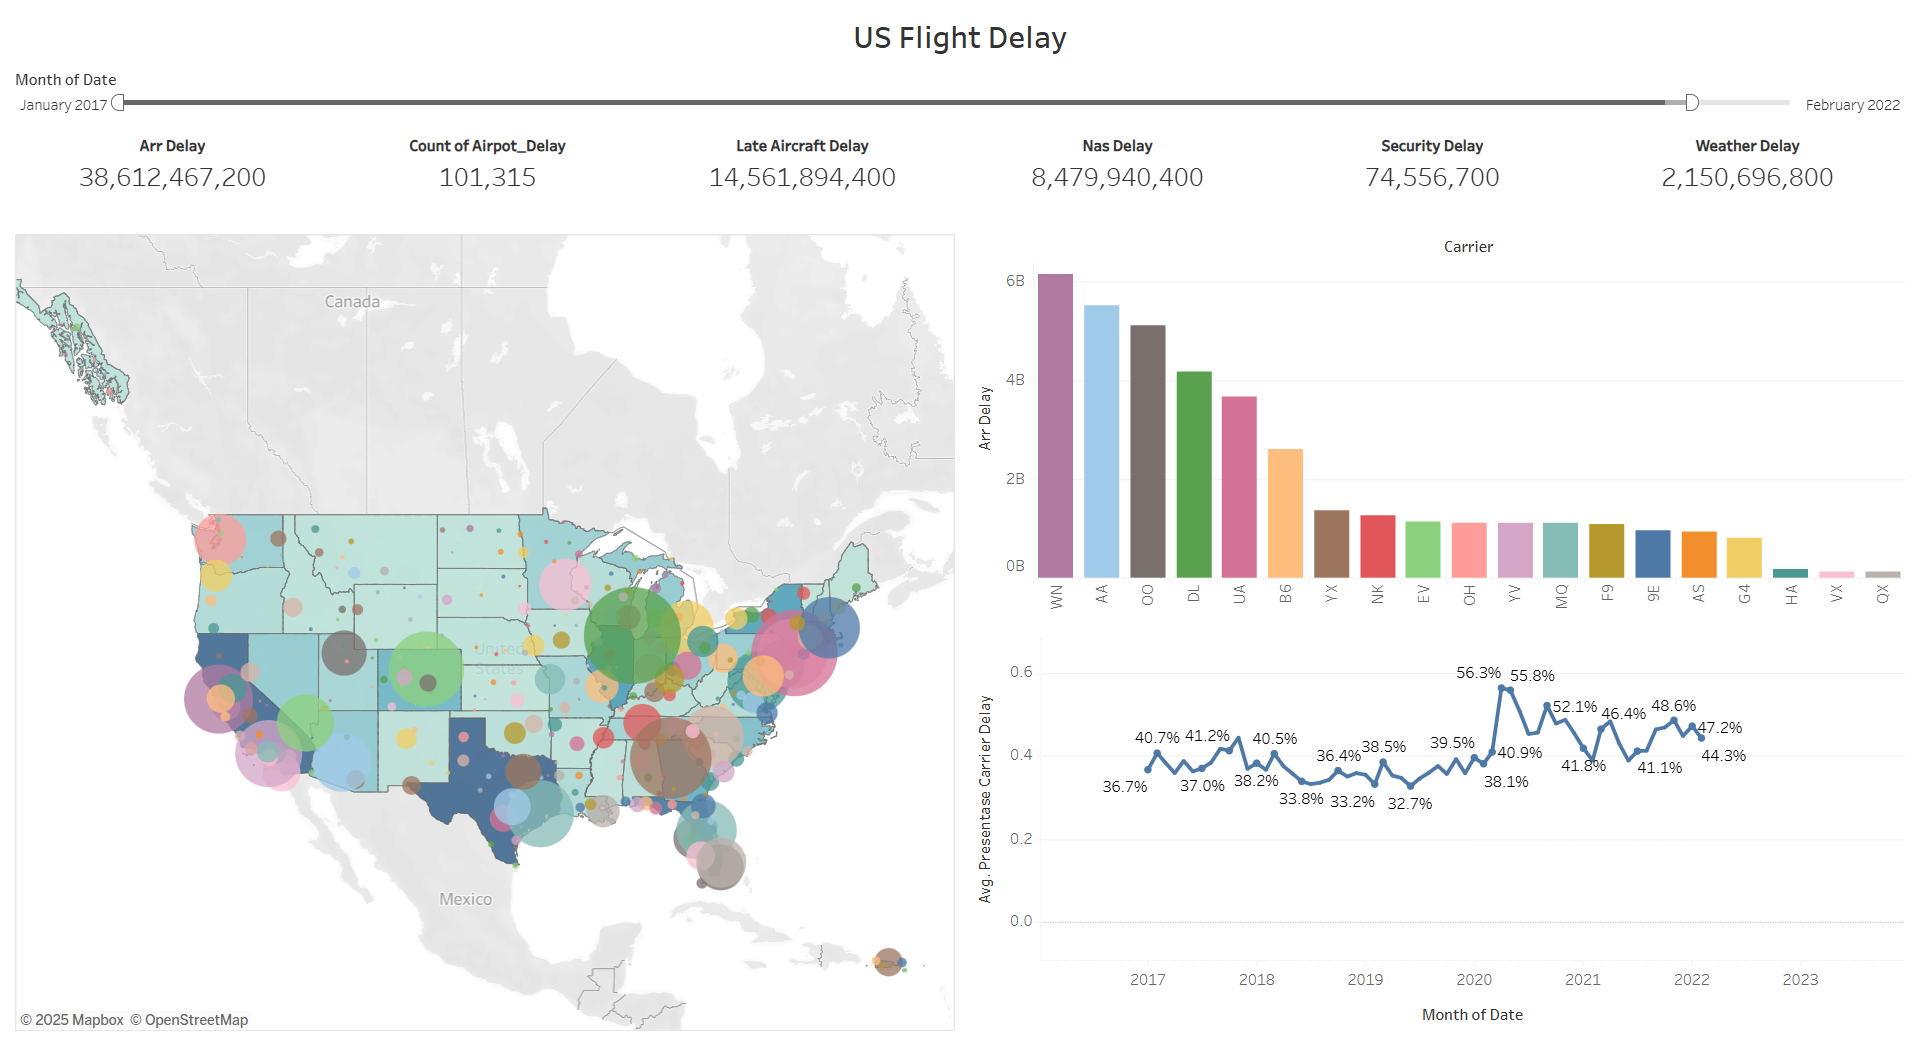

The page's visual inventory and layout, read from the dashboard file:
{"tool":"tableau","page":{"name":"US Flight Delay","canvas":[1000,1000],"units":"permille","ordinal":0},"visuals":[{"type":"title","box":[4.8,9.3,990.3,56.9]},{"type":"filter","title":"Carrier Delay Percentage","param":"[federated.0470yy809lsj5f158u5761crq3xg].[tmn:Date:qk]","box":[4.8,66.2,990.3,61.3]},{"type":"worksheet","title":"Total Delay","mark":"Automatic","box":[4.8,127.5,990.3,96.7]},{"type":"worksheet","title":"Map","mark":"Automatic","box":[4.8,224.2,495.2,766.6]},{"type":"worksheet","title":"Carrier","mark":"Automatic","rows":["arr_delay"],"cols":["carrier"],"box":[500,224.2,495.2,383.3]},{"type":"worksheet","title":"Carrier Delay Percentage","mark":"Automatic","rows":["Calculation_1006273067786072066"],"cols":["Date"],"box":[500,607.4,495.2,383.3]}]}

Visuals, with their boxes on the dashboard's canvas, which has no fixed pixel size, in thousandths of its width and height (x1, y1, x2, y2). These are canvas units, not pixel positions in the 1919x1044 screenshot, which may show the page scaled, cropped or inside an application window:
title: 5:9:995:66
"Carrier Delay Percentage" filter: 5:66:995:128
"Total Delay" worksheet: 5:128:995:224
"Map" worksheet: 5:224:500:991
"Carrier" worksheet: 500:224:995:608
"Carrier Delay Percentage" worksheet: 500:607:995:991
